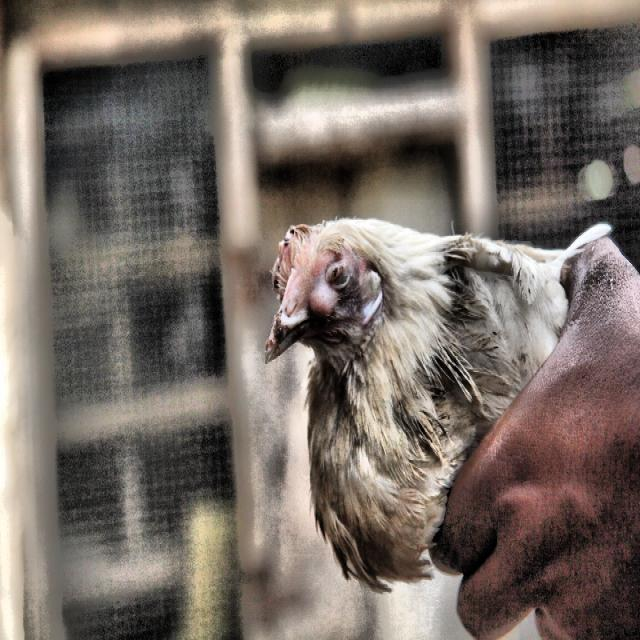Coryza: (232, 184, 493, 434)
